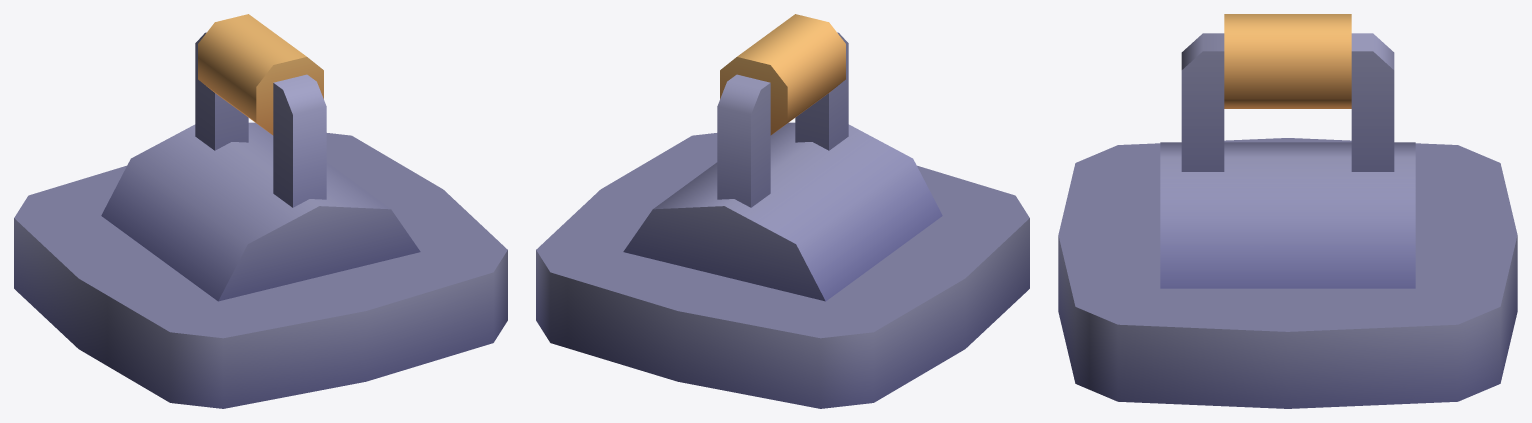
File: kenney-factory-lever-double.glb
3 renders of one model, left to right at view 1: azimuth 30°, elevation 25°; view 2: azimuth 150°, elevation 25°; view 3: azimuth 270°, elevation 25°, orthographic. The views are drawn at different scales.
Parts seen in each view (by area): view 1: lever-double, handle; view 2: lever-double, handle; view 3: lever-double, handle.
Boxes of the visible parts, bbox=[...] form: lever-double: bbox=[14, 122, 507, 408]; handle: bbox=[195, 14, 326, 207]; lever-double: bbox=[536, 122, 1029, 408]; handle: bbox=[717, 14, 848, 207]; lever-double: bbox=[1058, 138, 1517, 408]; handle: bbox=[1181, 14, 1394, 171].
Size of the model in its own units: 0.81 by 0.5625 by 0.81.
1 material, 1 textured.
